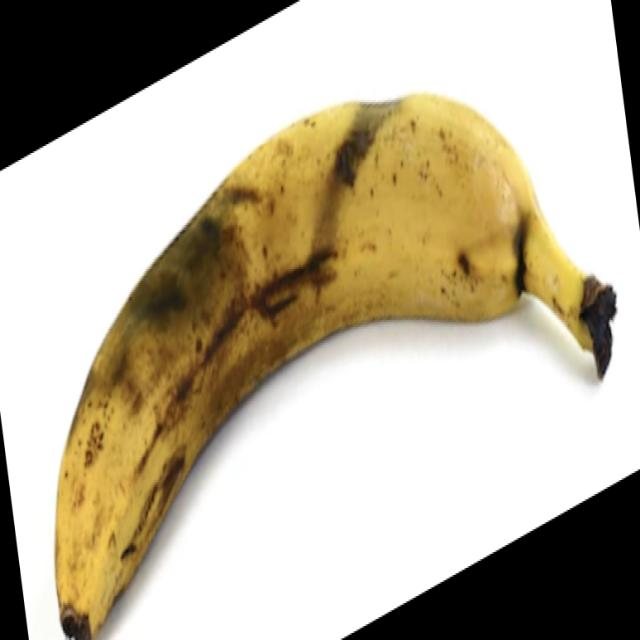overripe: (49, 89, 620, 640)
